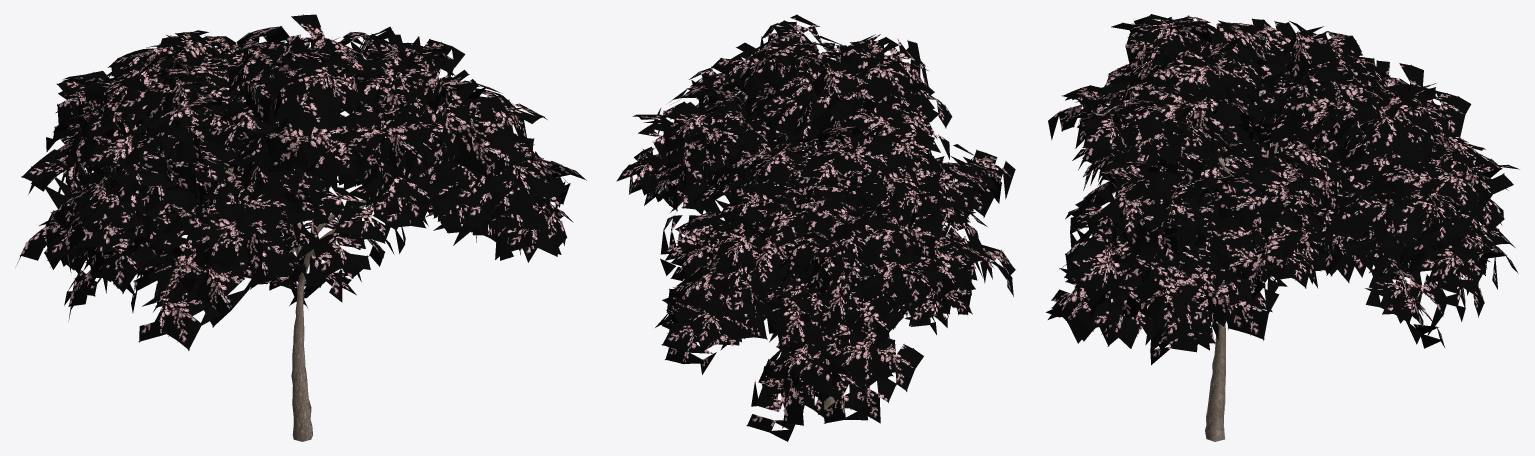
The model's file is Cherry_A_lod0.obj.
3 renders of one model, left to right at view 1: azimuth 30°, elevation 25°; view 2: azimuth 150°, elevation 25°; view 3: azimuth 270°, elevation 25°, orthographic. The views are drawn at different scales.
Visible parts, largest first — view 1: model; view 2: model; view 3: model.
Boxes of the visible parts, left/top/right/bottom form: model: left=17, top=14, right=586, bottom=441; model: left=616, top=14, right=1015, bottom=441; model: left=1046, top=14, right=1519, bottom=441.
Size of the model in its own units: 64.8 by 57.75 by 61.45.
2 materials, 2 textured.
